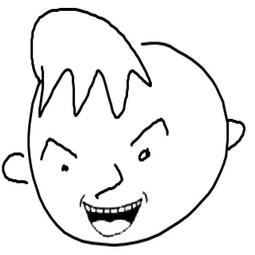ear: (0, 149, 37, 191), (218, 117, 248, 150)
frowning_eyebrow: (119, 112, 171, 147), (34, 132, 82, 162)
open_mouth: (78, 189, 149, 239)
pointy_nose: (89, 162, 126, 199)
small_eye: (136, 144, 154, 164), (58, 164, 71, 176)
